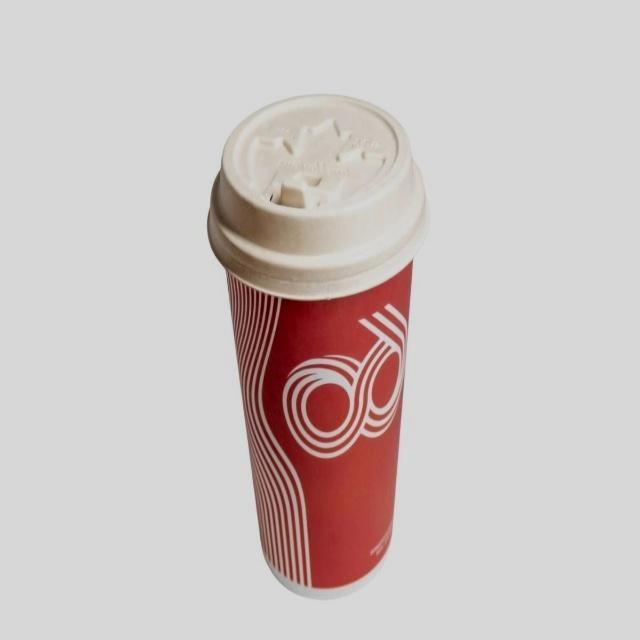timmies: (205, 88, 428, 596)
